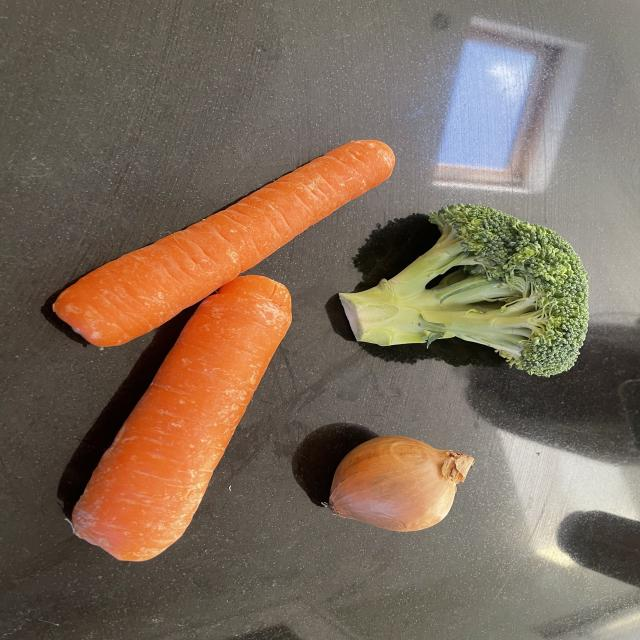Broccoli: (334, 201, 593, 379)
Carrot: (48, 136, 398, 352), (67, 274, 293, 564)
Onion: (328, 433, 476, 533)
